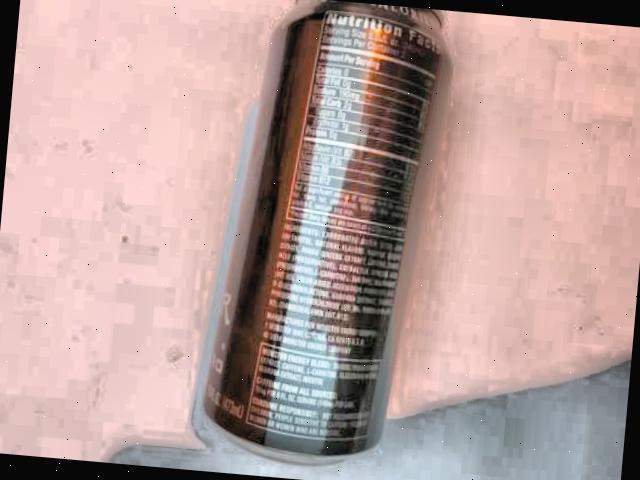Bottles: (180, 0, 461, 480)
